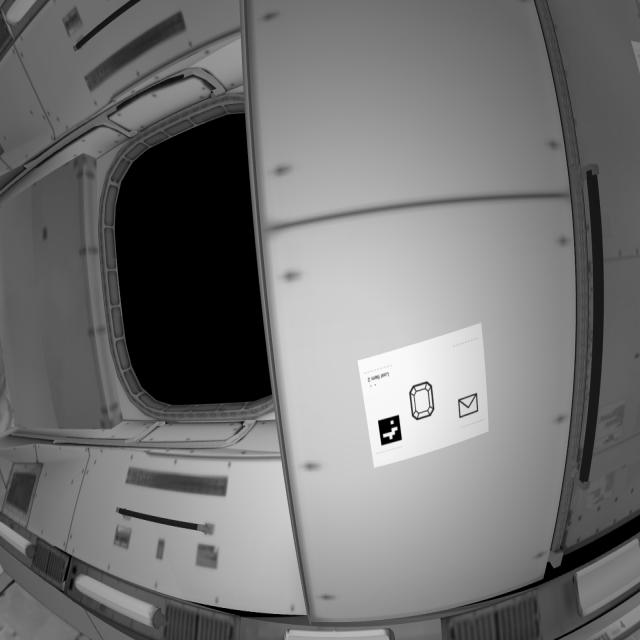emerald: (405, 376, 449, 431)
letter: (450, 390, 486, 424)
